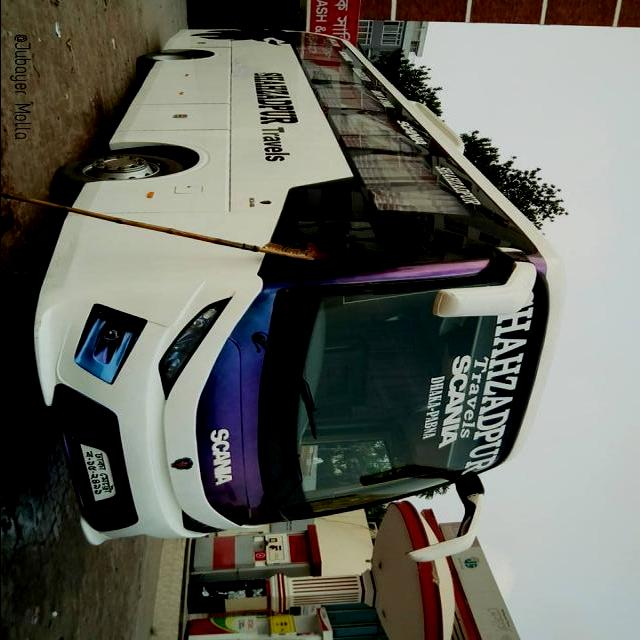bus: (28, 28, 571, 565)
